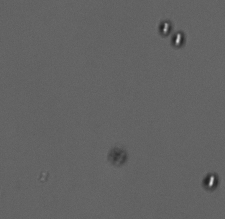Dead Cell: (107, 146, 130, 165)
Living Cell: (202, 172, 219, 191), (157, 20, 173, 36), (171, 31, 186, 48)
